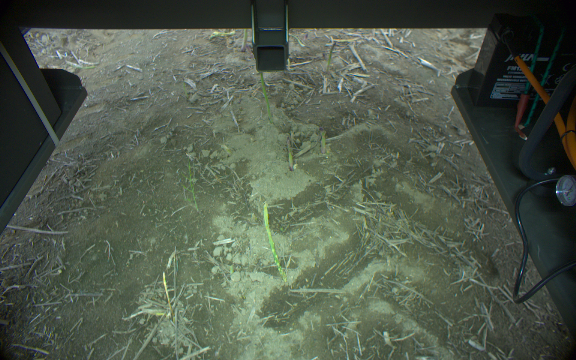aspa: (260, 198, 287, 284), (258, 71, 271, 123), (284, 134, 296, 173), (315, 126, 331, 154), (325, 40, 337, 75), (239, 28, 249, 54)
